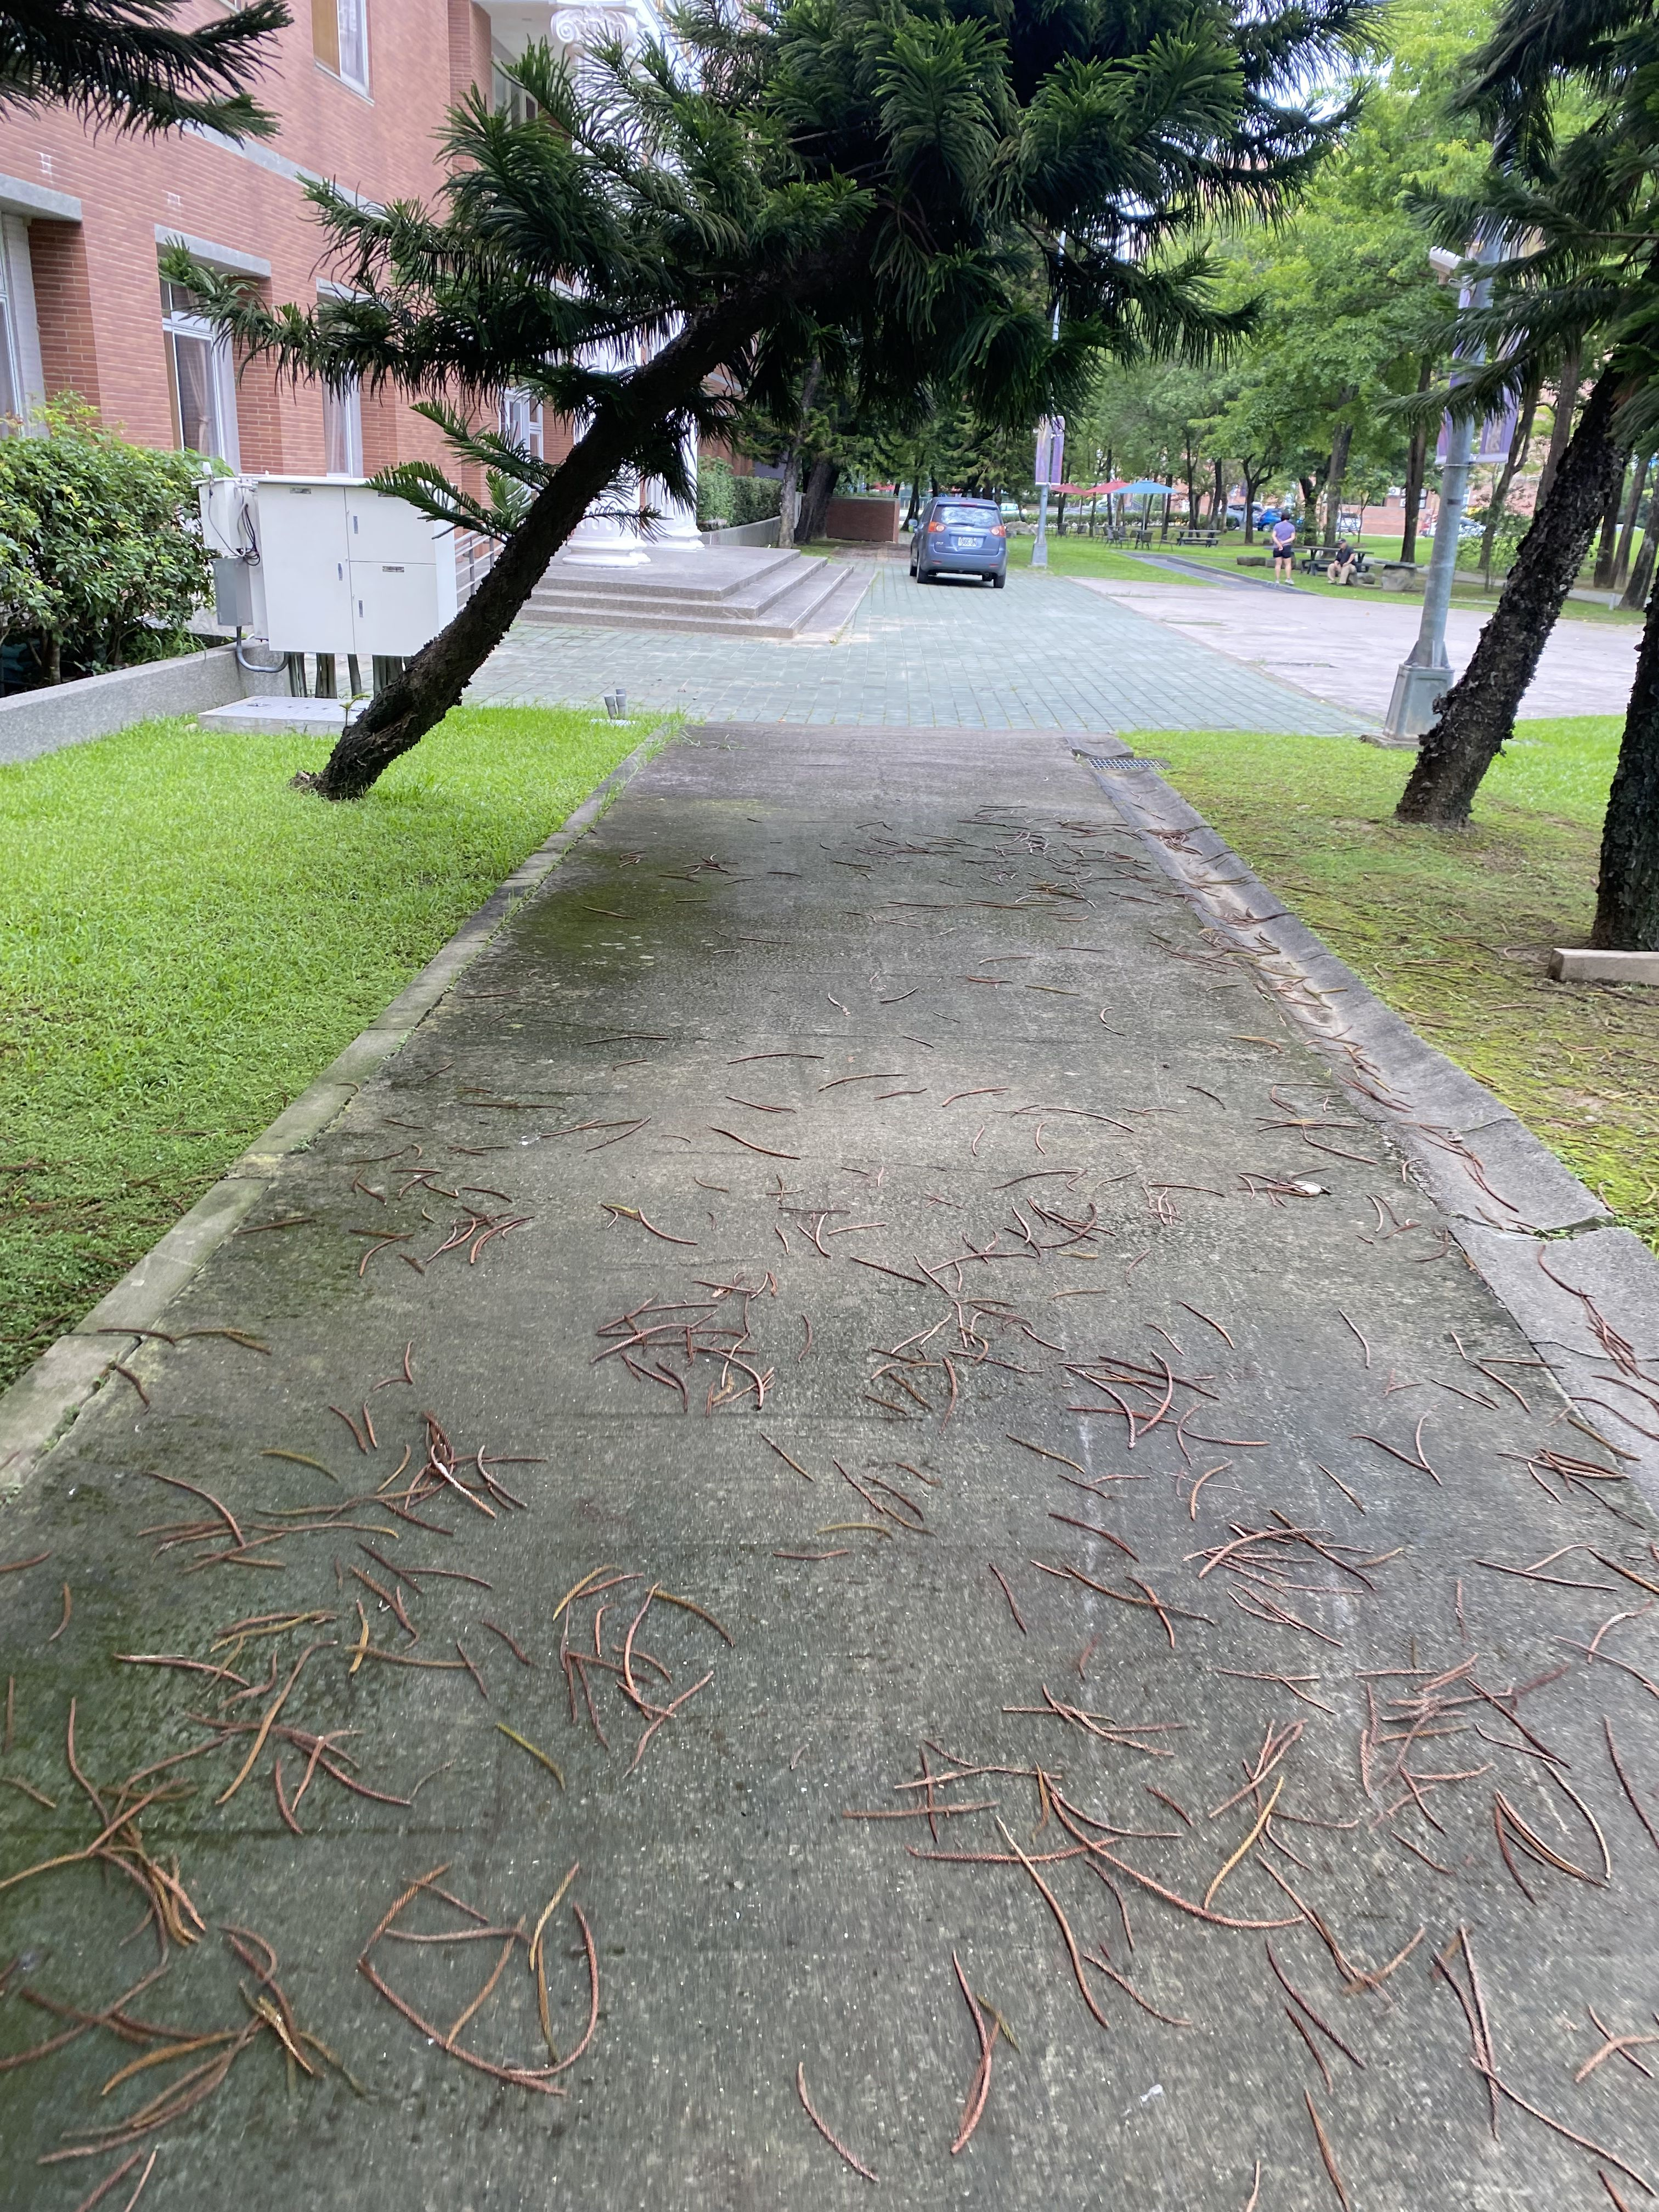0: (464, 481, 1359, 791)
sidewalk: (5, 676, 1659, 2203)
